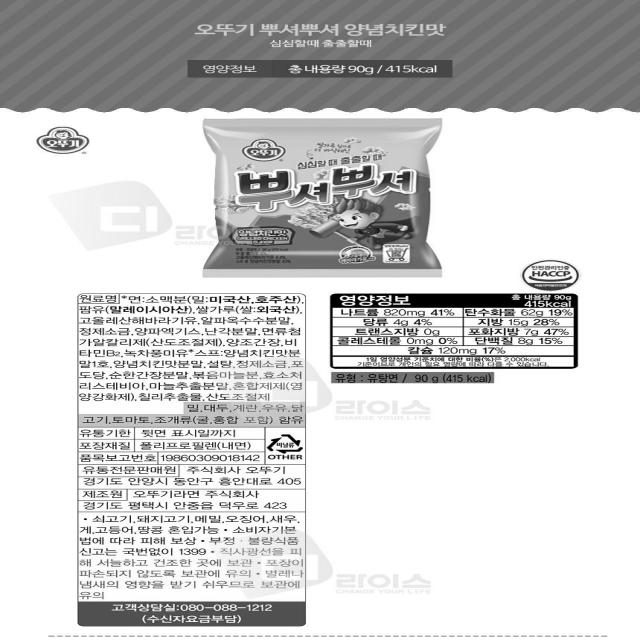Nutrition Label: (317, 286, 588, 384)
